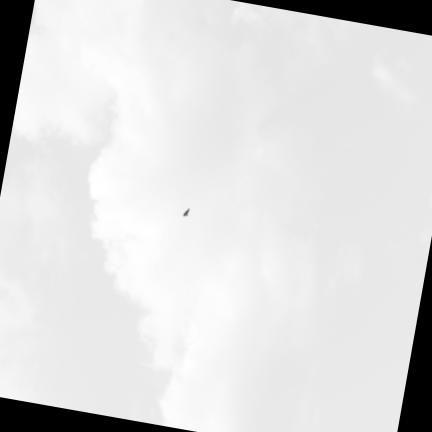Shahed: (183, 208, 189, 216)
